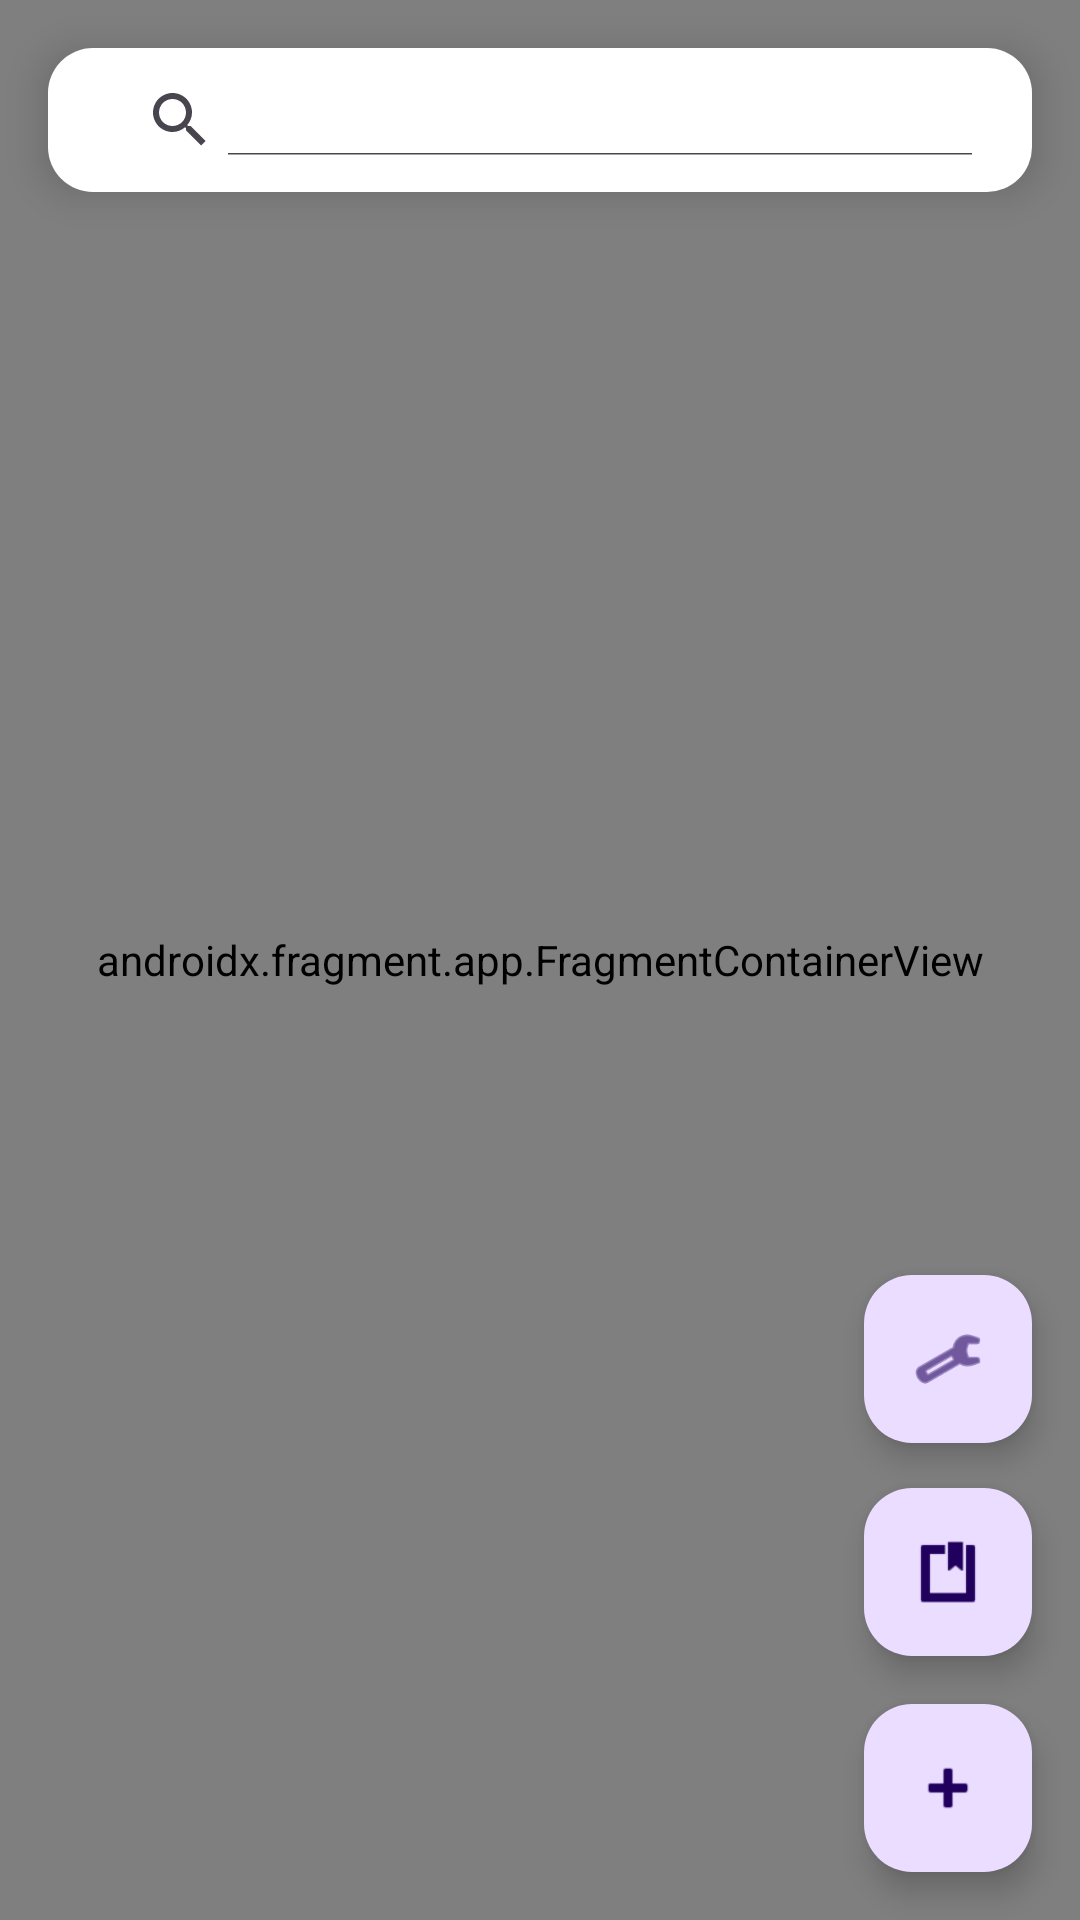

Icons on this 1080px x 1920px Android screen, each with its box as bbox=[x1, y1, x2, y2]:
Adicionar Ponto Turístico: bbox=[864, 1704, 1032, 1872]
Listar Pontos Turísticos: bbox=[864, 1488, 1032, 1656]
manage: bbox=[864, 1275, 1032, 1443]
